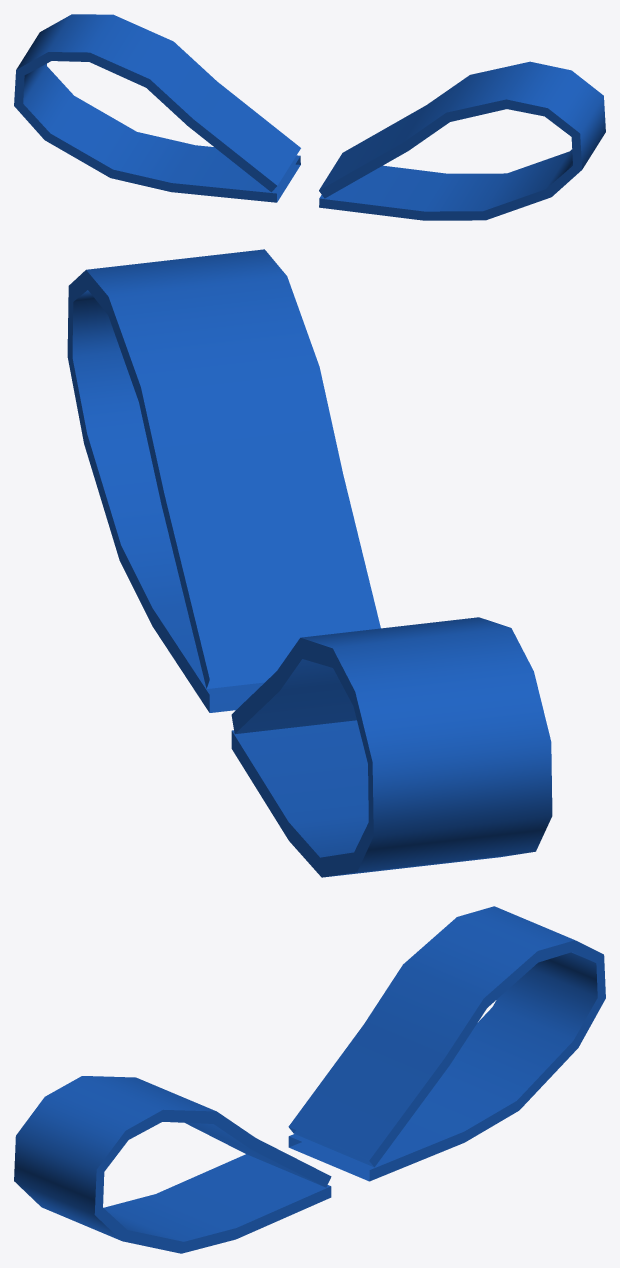
File: ChristmasTree_Dif8_Sc1.fbx
The picture shows the model from 3 angles, top to bottom: view 1: azimuth 30°, elevation 25°; view 2: azimuth 150°, elevation 25°; view 3: azimuth 270°, elevation 25°; orthographic projection. The views are drawn at different scales.
Parts seen in each view (by area): view 1: ChristmasTree_Dif8_Sc1; view 2: ChristmasTree_Dif8_Sc1; view 3: ChristmasTree_Dif8_Sc1.
Part boxes in pixels (x1,y1,x2,y2): ChristmasTree_Dif8_Sc1: [14, 14, 605, 220]; ChristmasTree_Dif8_Sc1: [67, 249, 552, 877]; ChristmasTree_Dif8_Sc1: [14, 906, 605, 1253].
Size of the model in its own units: 0.7772 by 0.7755 by 0.2323.
